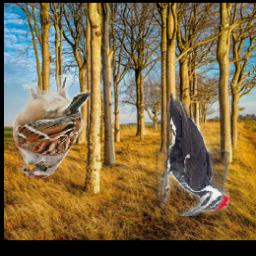Sparrow: (12, 76, 92, 179)
Woodpecker: (157, 94, 230, 217)
